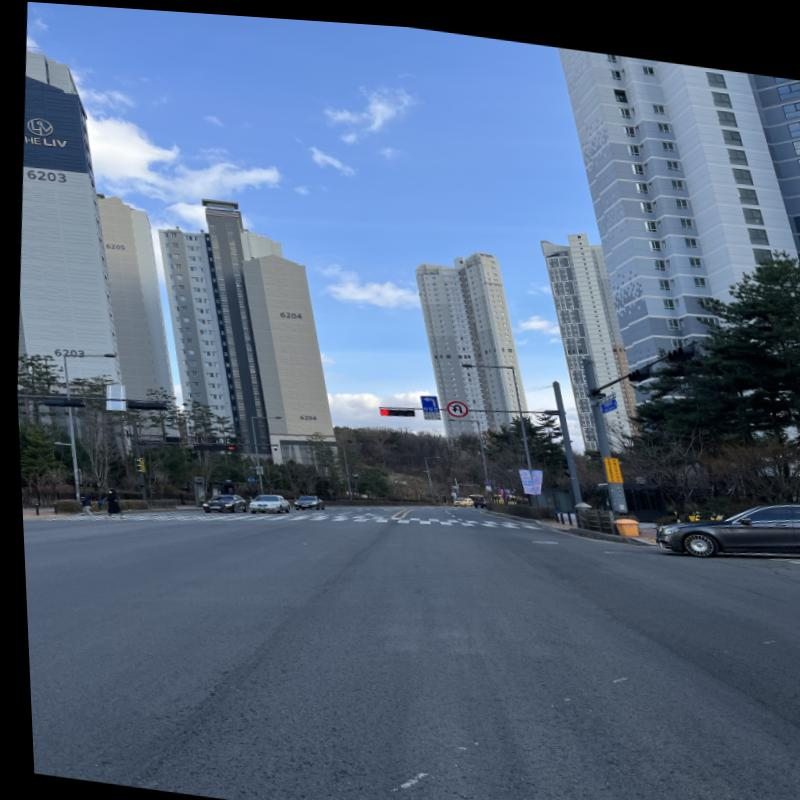red: (376, 404, 385, 410)
